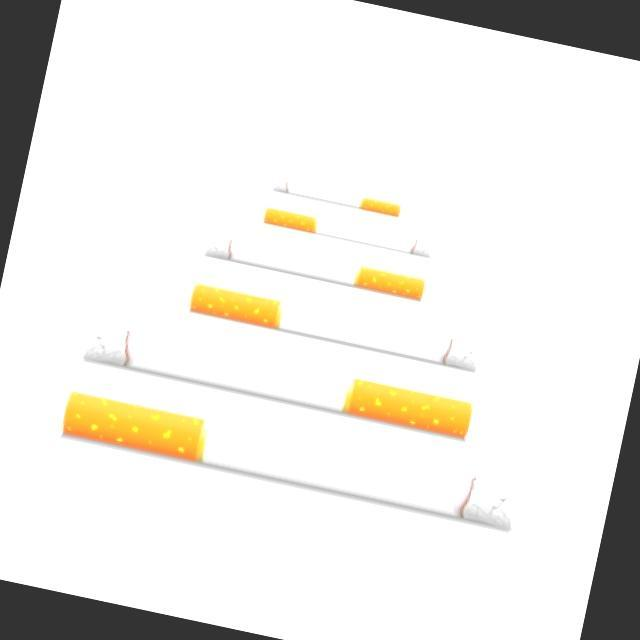cigarette: (52, 376, 528, 541), (68, 311, 490, 444), (256, 160, 416, 227)
